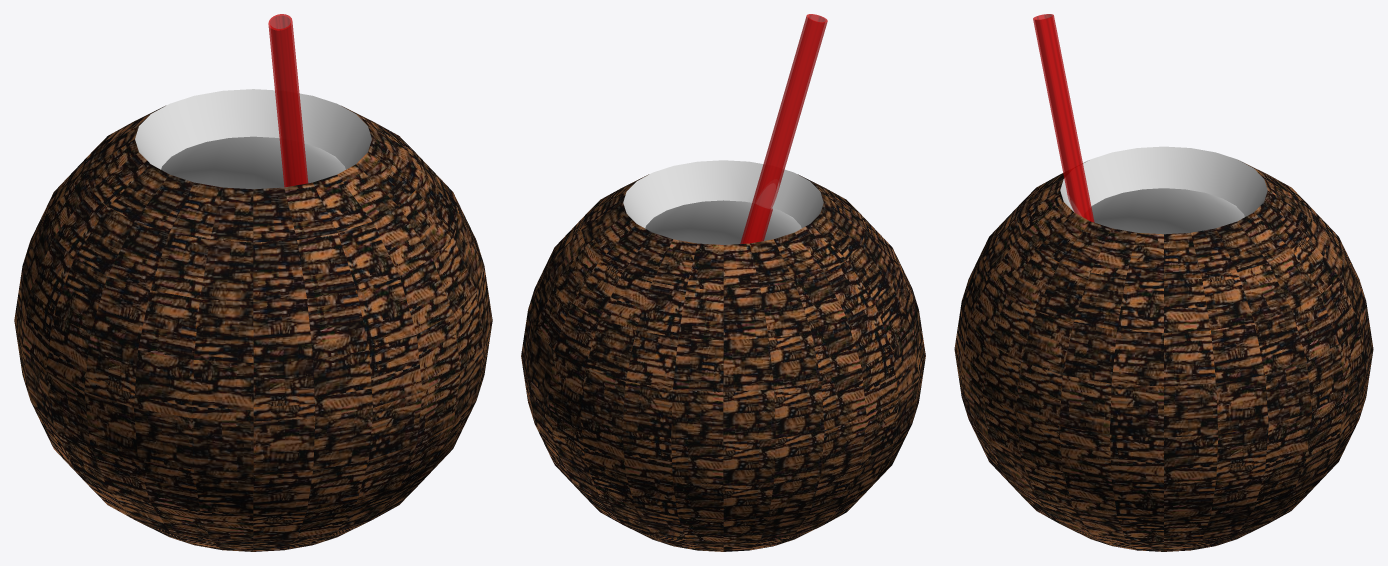
File: coconut_drink.fbx
3 renders of one model, left to right at view 1: azimuth 30°, elevation 25°; view 2: azimuth 150°, elevation 25°; view 3: azimuth 270°, elevation 25°, orthographic. The views are drawn at different scales.
Parts seen in each view (by area): view 1: coconut, coconut_interior, coconut_straw; view 2: coconut, coconut_straw, coconut_interior; view 3: coconut, coconut_interior, coconut_straw.
Part boxes in pixels (x1=…): coconut: x1=14, y1=89, x2=492, y2=551; coconut_interior: x1=161, y1=136, x2=345, y2=189; coconut_straw: x1=268, y1=14, x2=308, y2=187; coconut: x1=521, y1=160, x2=925, y2=551; coconut_straw: x1=740, y1=14, x2=827, y2=243; coconut_interior: x1=645, y1=200, x2=801, y2=244; coconut: x1=954, y1=146, x2=1373, y2=551; coconut_interior: x1=1090, y1=188, x2=1244, y2=234; coconut_straw: x1=1033, y1=14, x2=1094, y2=222.
Size of the model in its own units: 0.5953 by 0.778 by 0.5953.
Materials: 3 (1 with a texture image).
